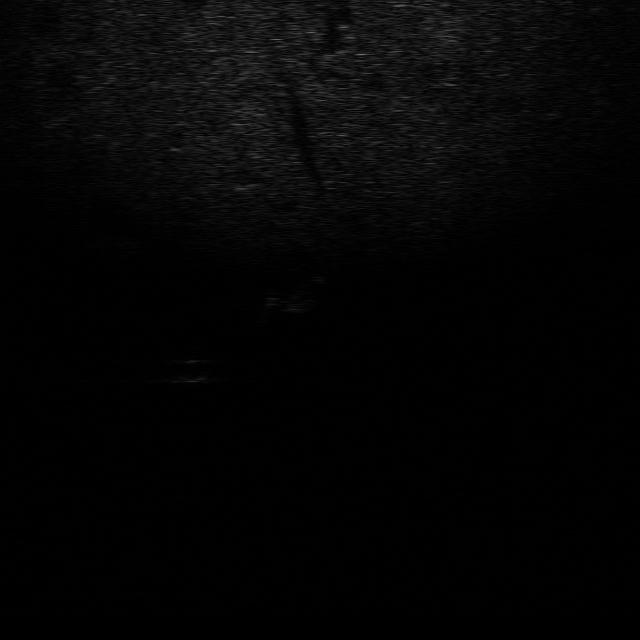ball: (164, 354, 214, 388)
human body: (256, 271, 324, 319)
